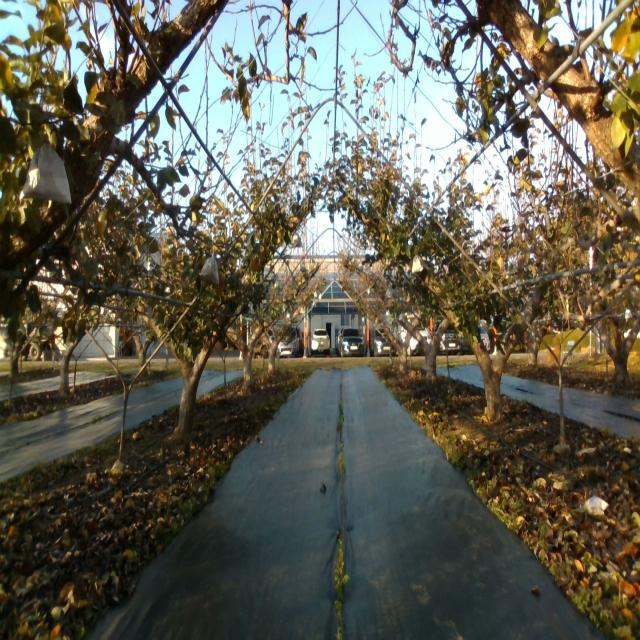pearbags: (19, 144, 70, 203), (201, 253, 219, 285), (411, 255, 423, 274)
